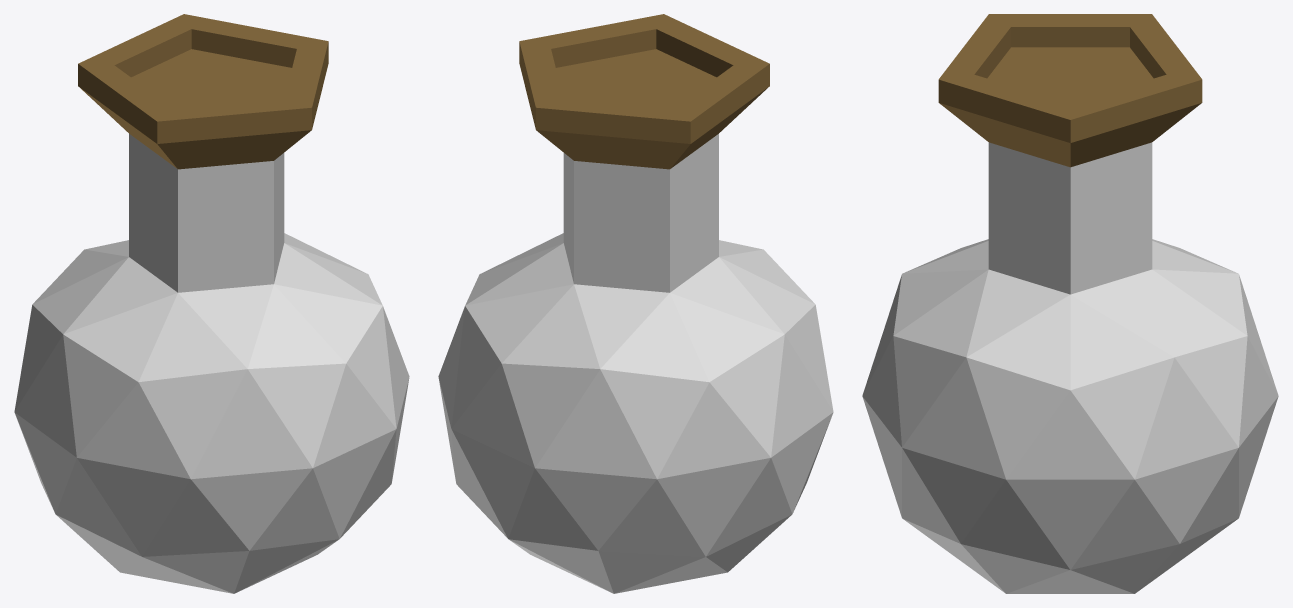
File: potion bottle - samuel gragg.fbx
3 renders of one model, left to right at view 1: azimuth 30°, elevation 25°; view 2: azimuth 150°, elevation 25°; view 3: azimuth 270°, elevation 25°, orthographic. The views are drawn at different scales.
Visible parts, largest first — view 1: Icosphere; view 2: Icosphere; view 3: Icosphere.
Boxes of the visible parts, x1,y1,x2,y2 form: Icosphere: (14,14,409,593); Icosphere: (438,14,833,593); Icosphere: (862,14,1278,593).
Bounding box in the file's own units: 190 × 277 × 200.
